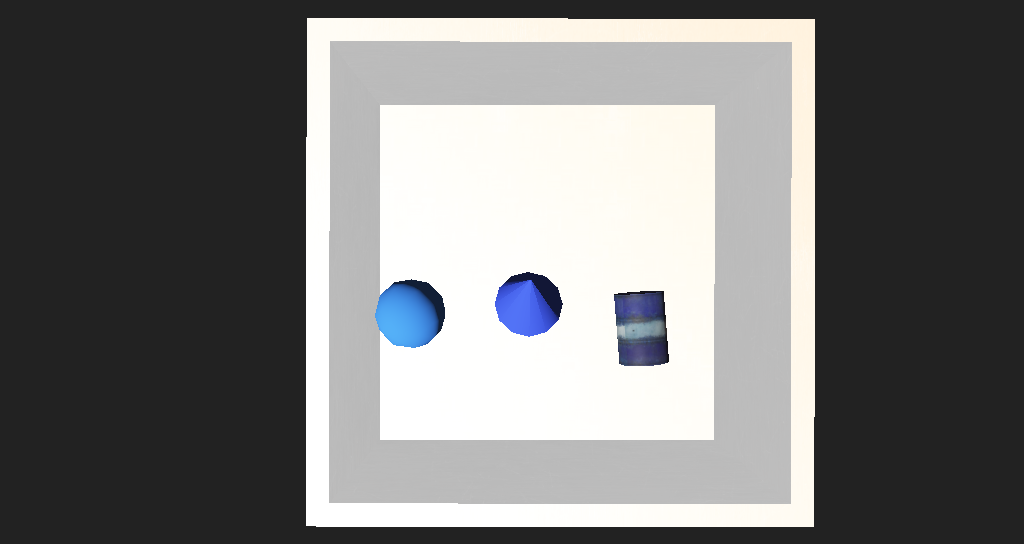cone: (563, 279, 623, 332)
cylinder: (451, 253, 519, 310)
sphere: (354, 274, 414, 317)
